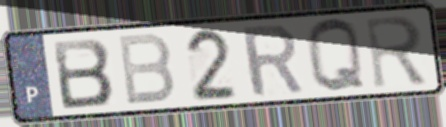2: (183, 25, 241, 105)
B: (49, 36, 116, 112), (115, 31, 178, 108)
Q: (304, 16, 369, 96)
R: (237, 21, 307, 100), (362, 13, 430, 91)
